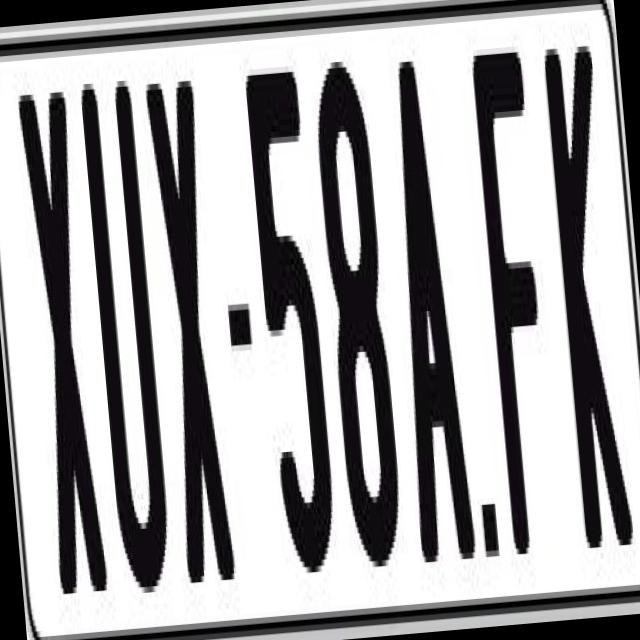5: (239, 59, 344, 580)
8: (306, 42, 410, 550)
A: (374, 48, 471, 552)
F: (468, 39, 566, 566)
K: (540, 33, 638, 560)
U: (78, 80, 179, 624)
X: (13, 86, 106, 612), (142, 80, 236, 594)
